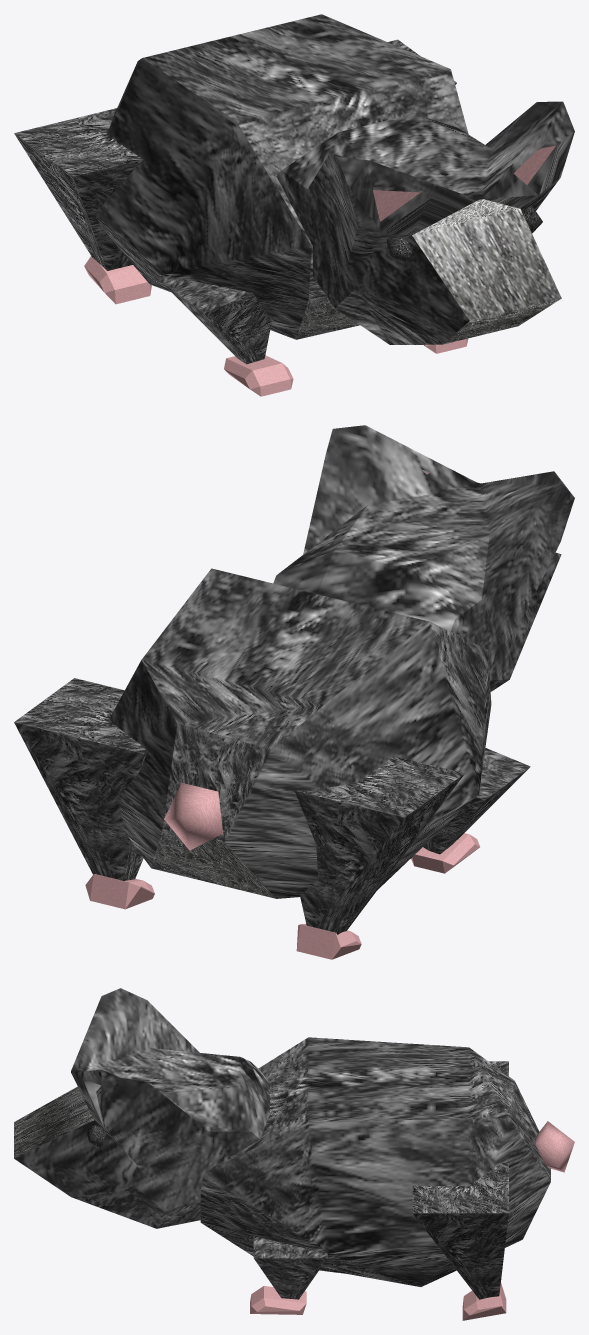
The model's file is hamster.FBX.
The picture shows the model from 3 angles, top to bottom: view 1: azimuth 30°, elevation 25°; view 2: azimuth 150°, elevation 25°; view 3: azimuth 270°, elevation 25°; orthographic projection. The views are drawn at different scales.
Visible parts, largest first — view 1: Box003, Box002, Object002, Box009, Box007, Box006, Box008, Object003, Object001, Sphere003; view 2: Box003, Box002, Box009, Box011, Object003, Box007, Sphere001, Box010, Box008, Box006; view 3: Box003, Box002, Box011, Box005, Object002, Sphere001, Box004, Box010.
Part boxes in pixels (x1=…): Box003: x1=94, y1=14, x2=468, y2=339; Box002: x1=276, y1=101, x2=574, y2=344; Object002: x1=412, y1=199, x2=561, y2=344; Box009: x1=14, y1=108, x2=143, y2=270; Box007: x1=159, y1=276, x2=271, y2=364; Box006: x1=224, y1=355, x2=293, y2=396; Box008: x1=84, y1=256, x2=151, y2=304; Object003: x1=296, y1=296, x2=359, y2=339; Object001: x1=373, y1=145, x2=555, y2=221; Sphere003: x1=387, y1=238, x2=412, y2=264; Box003: x1=108, y1=568, x2=491, y2=898; Box002: x1=273, y1=425, x2=574, y2=691; Box009: x1=294, y1=756, x2=464, y2=934; Box011: x1=14, y1=678, x2=147, y2=880; Object003: x1=151, y1=830, x2=275, y2=898; Box007: x1=423, y1=748, x2=530, y2=854; Sphere001: x1=164, y1=783, x2=223, y2=850; Box010: x1=85, y1=874, x2=154, y2=909; Box008: x1=296, y1=923, x2=361, y2=959; Box006: x1=411, y1=833, x2=479, y2=873; Box003: x1=200, y1=1037, x2=550, y2=1286; Box002: x1=14, y1=988, x2=269, y2=1228; Box011: x1=412, y1=1163, x2=508, y2=1299; Box005: x1=253, y1=1236, x2=327, y2=1299; Object002: x1=14, y1=1086, x2=93, y2=1158; Sphere001: x1=535, y1=1121, x2=574, y2=1172; Box004: x1=250, y1=1286, x2=306, y2=1314; Box010: x1=462, y1=1283, x2=506, y2=1320.
Size of the model in its own units: 32.5 by 24.31 by 50.68.
4 materials, 4 textured.
